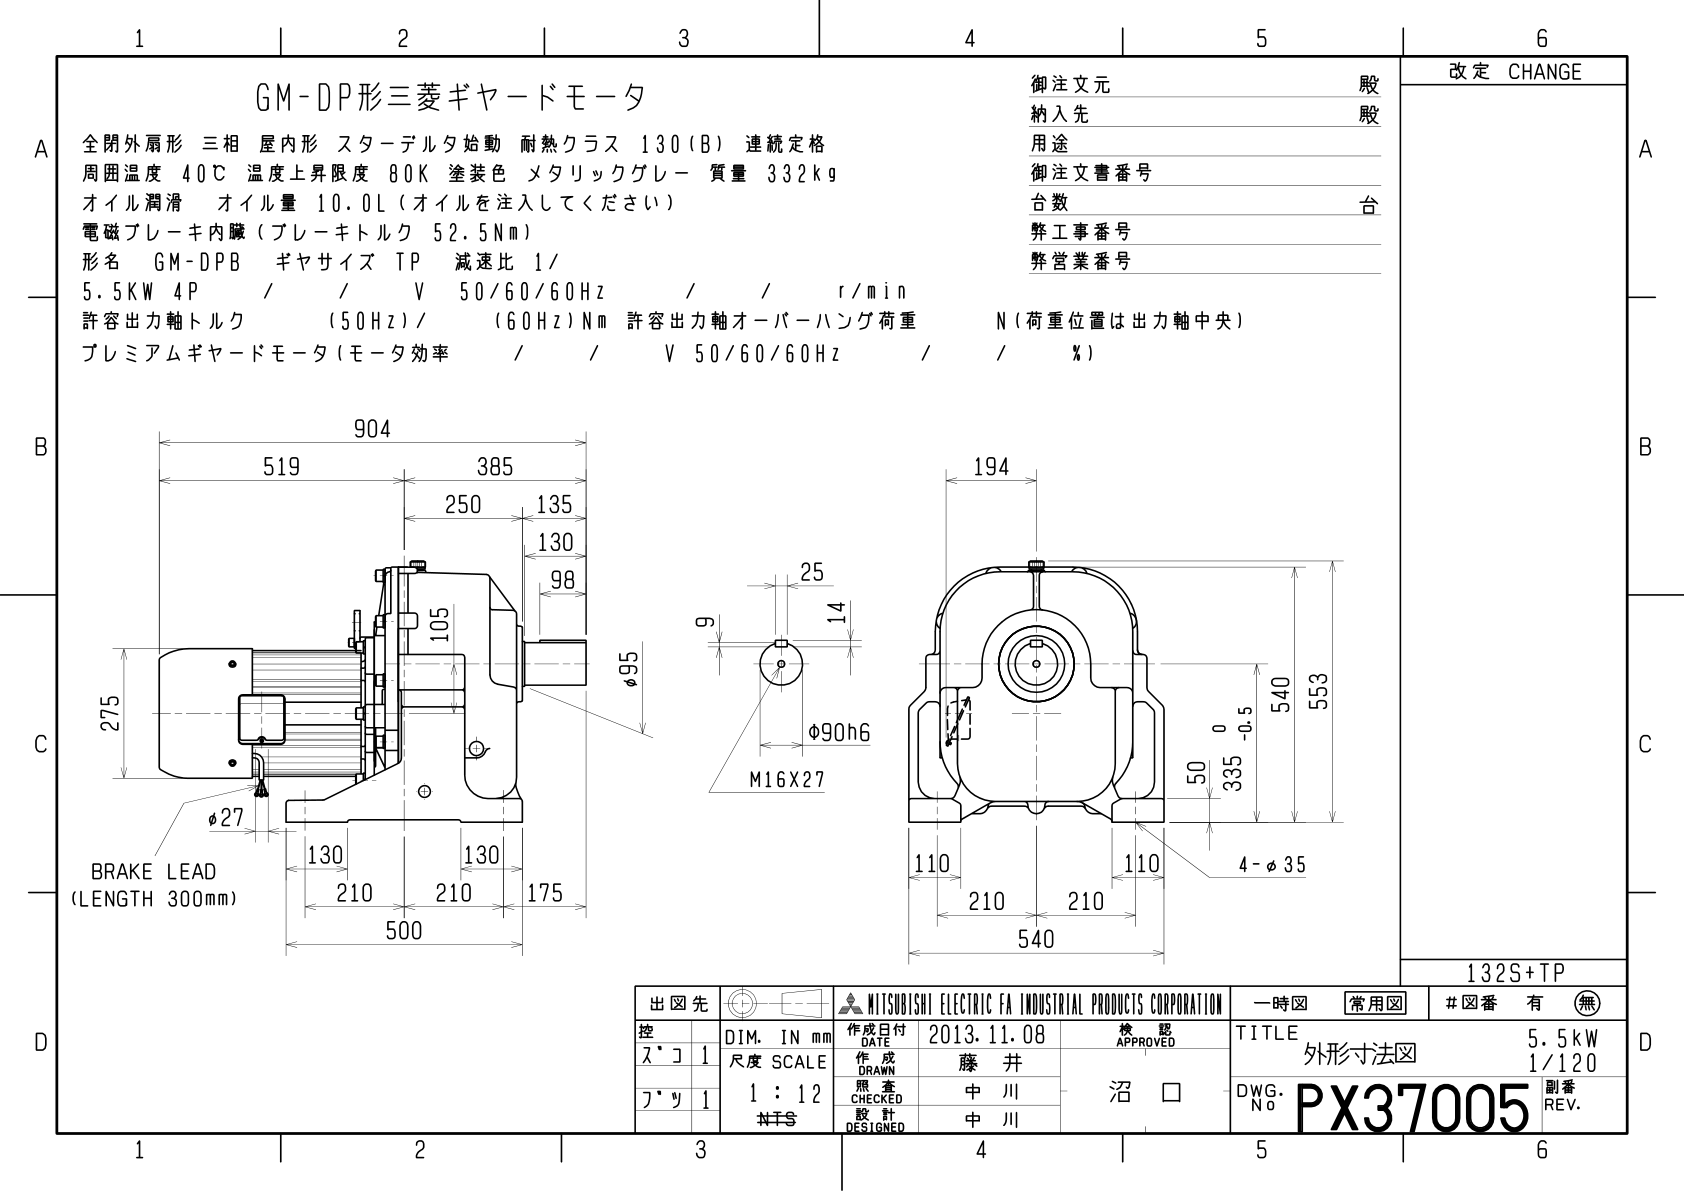GM_D_屋内＿三相_脚: (1, 1, 1676, 1179)
